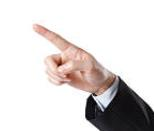up: (32, 22, 102, 88)
